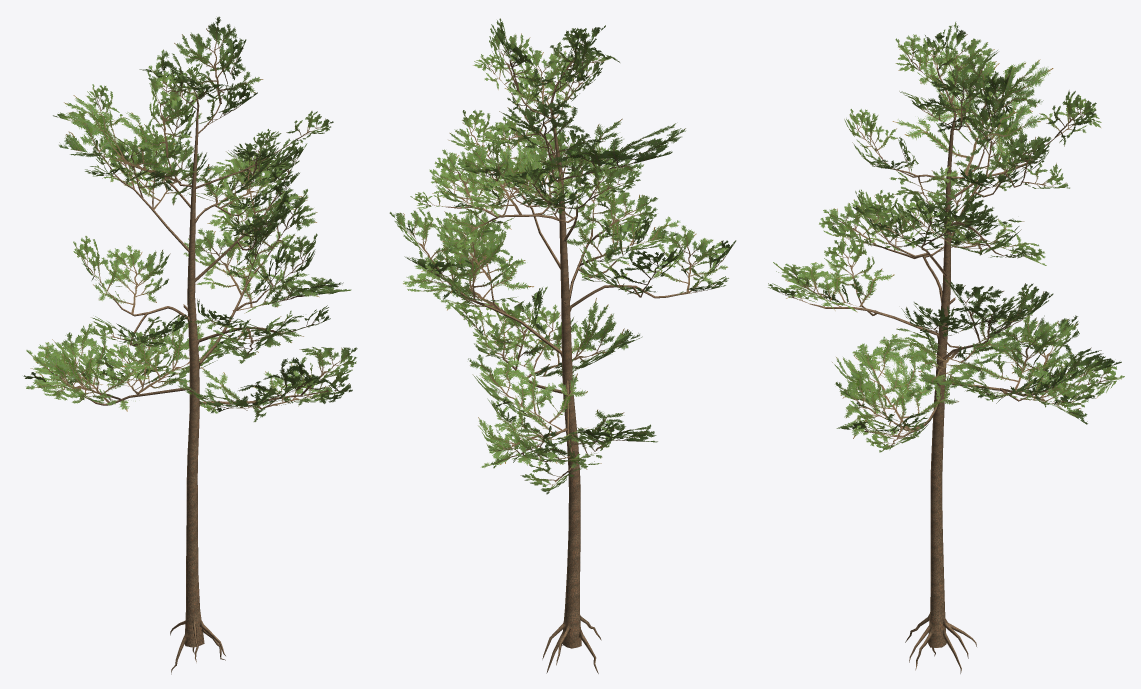
3 views of the same model, side by side, from view 1: azimuth 30°, elevation 25°; view 2: azimuth 150°, elevation 25°; view 3: azimuth 270°, elevation 25° (orthographic). The views are drawn at different scales.
Visible parts, largest first — view 1: Pine_medium_2_LOD1_Bark_Mat_0; view 2: Pine_medium_2_LOD1_Bark_Mat_0; view 3: Pine_medium_2_LOD1_Bark_Mat_0.
Boxes of the visible parts, left/top/right/bottom form: Pine_medium_2_LOD1_Bark_Mat_0: left=23, top=16, right=357, bottom=674; Pine_medium_2_LOD1_Bark_Mat_0: left=389, top=18, right=736, bottom=673; Pine_medium_2_LOD1_Bark_Mat_0: left=768, top=22, right=1124, bottom=673.
Size of the model in its own units: 6.23 by 12.83 by 6.5.
